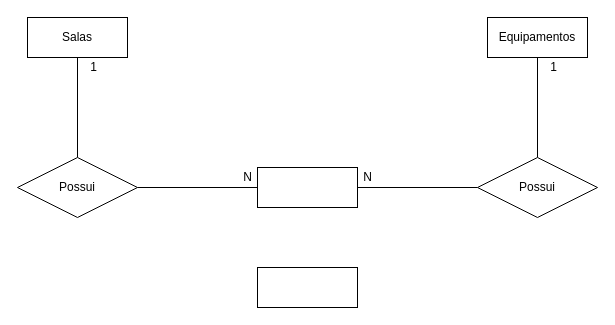
Some shapes in this 615 by 325 pixel diagram are drawn without their labels. The shapes that lost their labels are listed below. From the top down, each one's box as (x1, y1, x2, y2) in pixels, then its label:
(256, 166, 358, 208): Entradas
(256, 266, 358, 308): Usuarios
